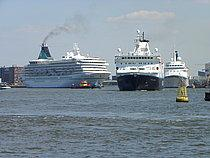Ship: (15, 40, 113, 89), (110, 28, 167, 91), (164, 50, 193, 94)
